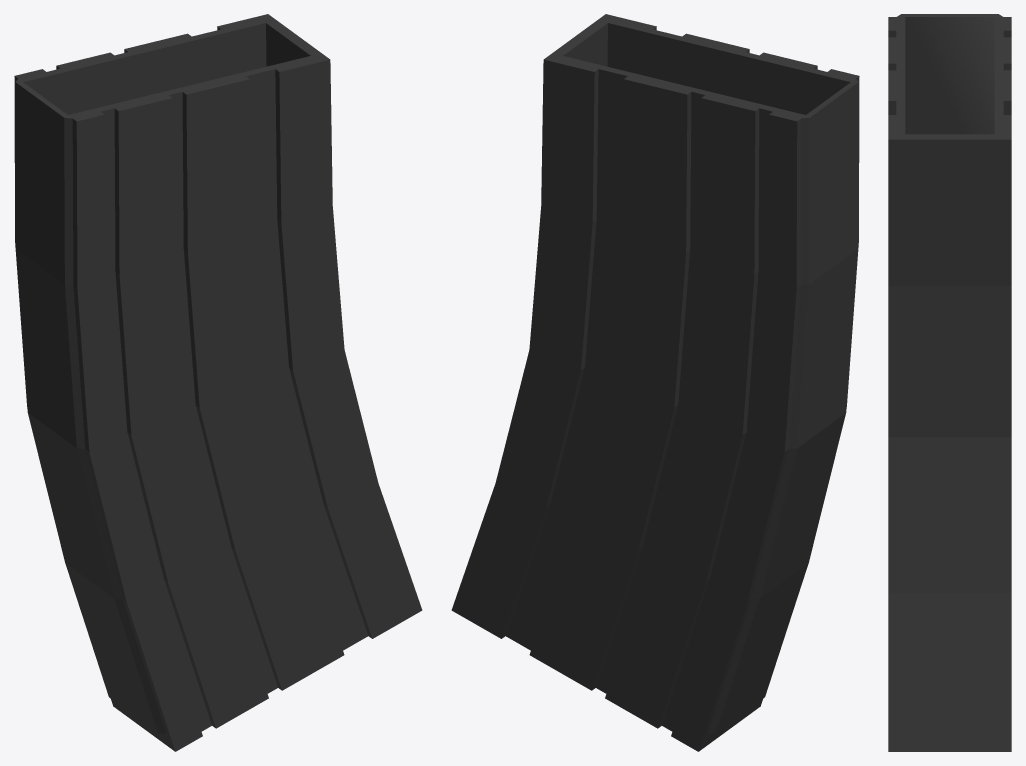
The model's file is AssaultRifle4_02_2.fbx.
The picture shows the model from 3 angles, left to right: view 1: azimuth 30°, elevation 25°; view 2: azimuth 150°, elevation 25°; view 3: azimuth 270°, elevation 25°; orthographic projection.
Parts seen in each view (by area): view 1: AssaultRifle4_02_2; view 2: AssaultRifle4_02_2; view 3: AssaultRifle4_02_2.
Boxes of the visible parts, <box> form: AssaultRifle4_02_2: <box>14,14,422,751</box>; AssaultRifle4_02_2: <box>451,14,859,751</box>; AssaultRifle4_02_2: <box>888,14,1011,751</box>.
Size of the model in its own units: 0.0993 by 0.1767 by 0.0305.
